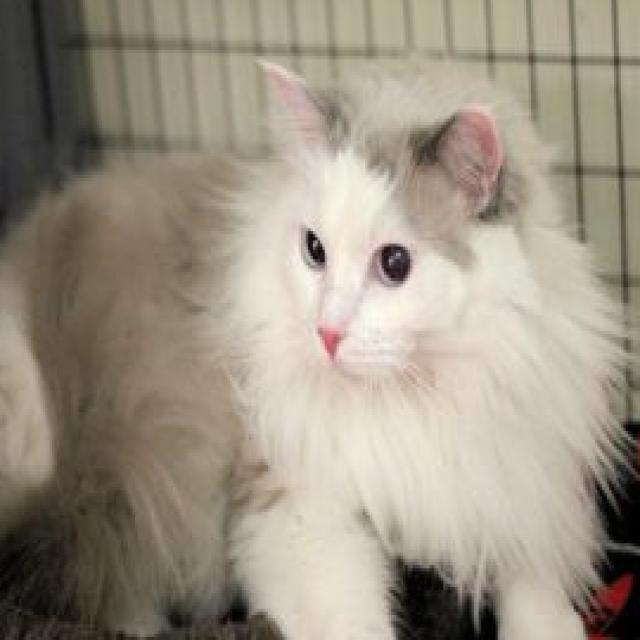Ragdoll: (0, 47, 635, 640)
